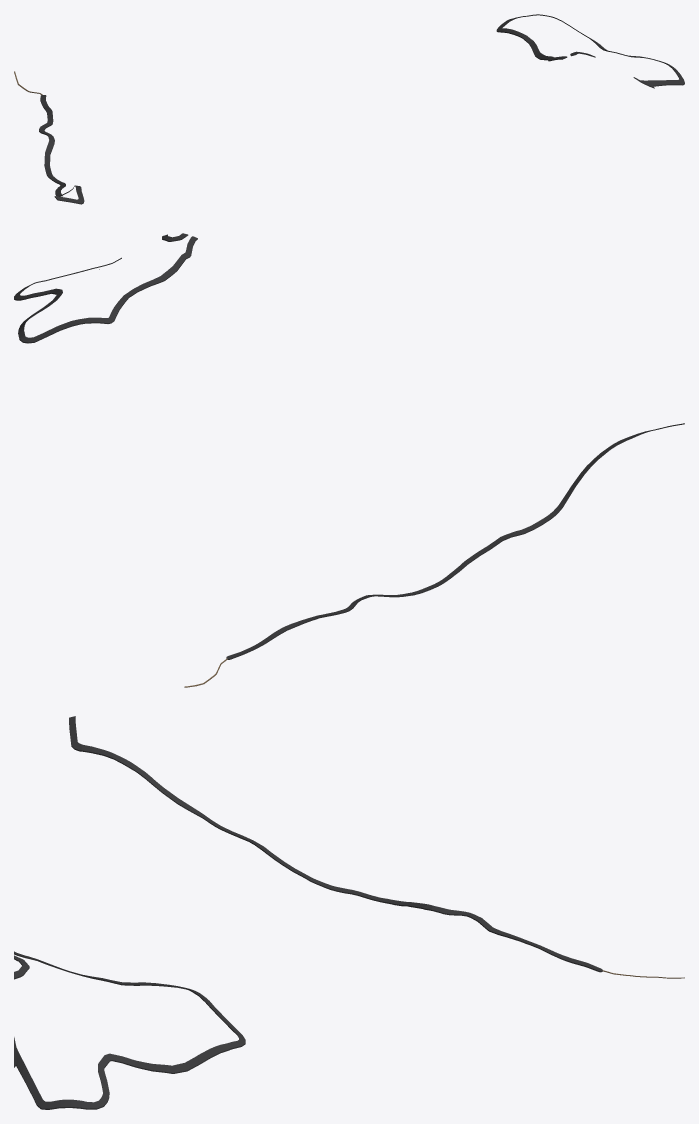
3 renders of one model, top to bottom at view 1: azimuth 30°, elevation 25°; view 2: azimuth 150°, elevation 25°; view 3: azimuth 270°, elevation 25°, orthographic. The views are drawn at different scales.
Bounding box in the file's own units: 805 × 195 × 629.
